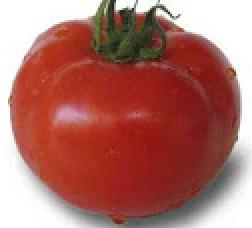tomato: (11, 13, 239, 217)
